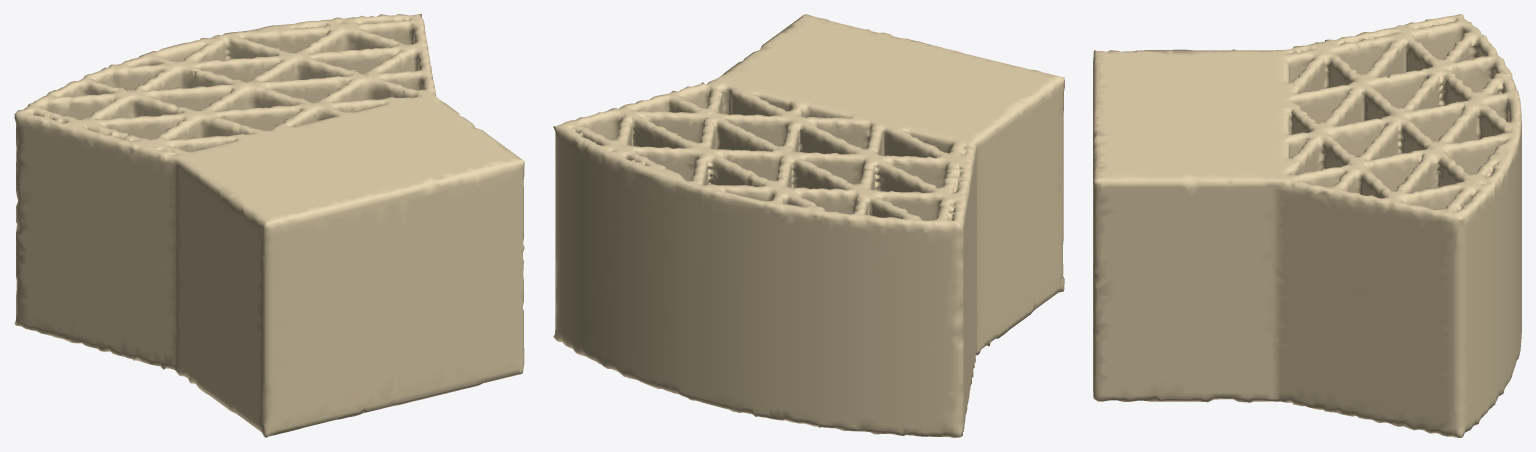
The model's file is ollie-paw-shape-025.glb.
3 views of the same model, side by side, from view 1: azimuth 30°, elevation 25°; view 2: azimuth 150°, elevation 25°; view 3: azimuth 270°, elevation 25° (orthographic). The views are drawn at different scales.
Parts seen in each view (by area): view 1: world; view 2: world; view 3: world.
Part boxes in pixels (x1,y1,x2,y2): world: [14, 14, 524, 437]; world: [553, 14, 1064, 437]; world: [1093, 14, 1521, 437].
Bounding box in the file's own units: 39.79 × 20 × 35.
